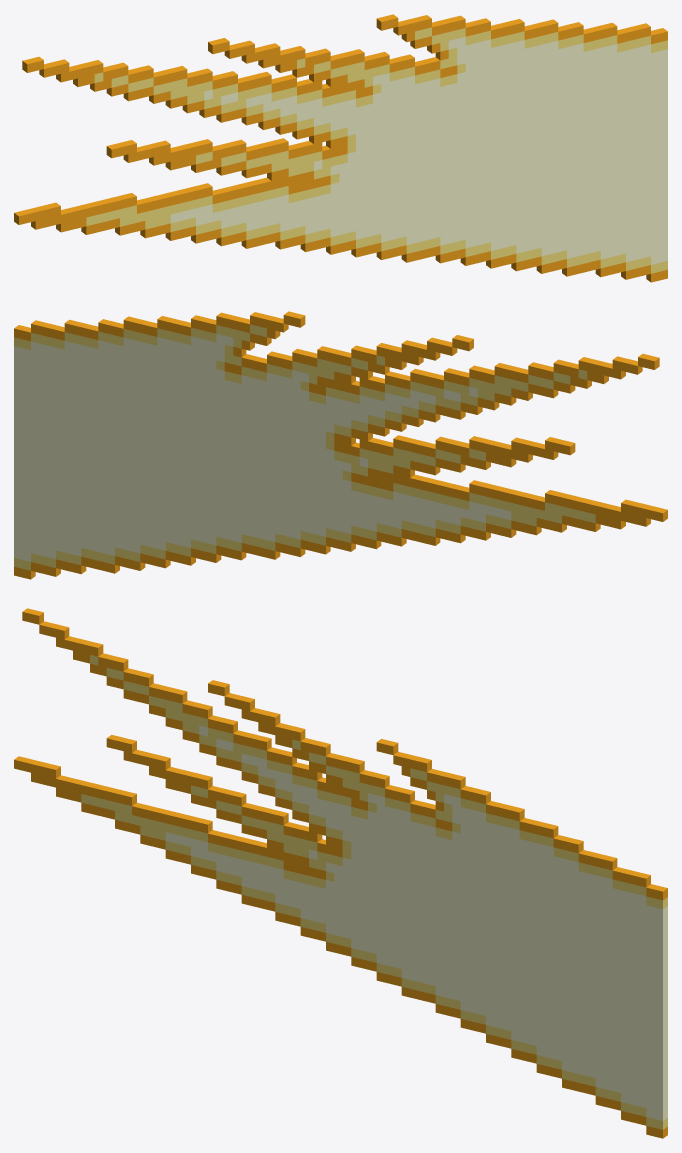
Rendered from Fight_732_2_09_fx.obj.
The picture shows the model from 3 angles, top to bottom: view 1: azimuth 30°, elevation 25°; view 2: azimuth 150°, elevation 25°; view 3: azimuth 330°, elevation 25°; orthographic projection.
Bounding box in the file's own units: 7.7 × 4.2 × 0.1.
Materials: 1 (1 with a texture image).
